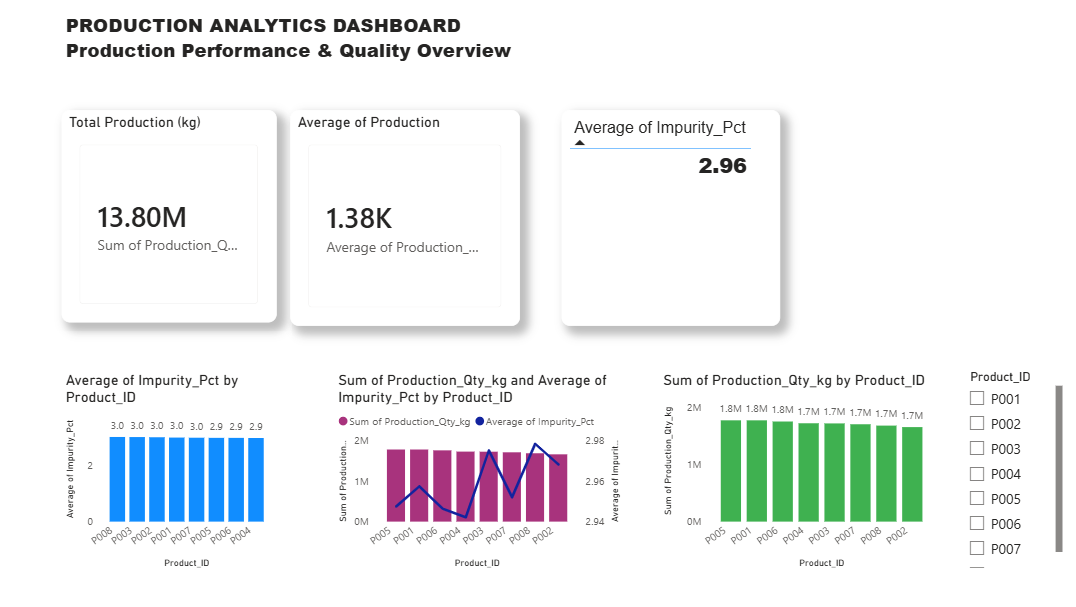

The page's visual inventory and layout, read from the dashboard file:
{"tool":"powerbi","page":{"name":"Page 1","canvas":[1280,720],"ordinal":0},"visuals":[{"type":"cardVisual","title":"Total Production (kg)","fields":{"Data":["Sum(Production Data 1.Production_Qty_kg)"]},"box":[95.7,139.1,249.3,246.4],"z":0},{"type":"cardVisual","title":"Average of Production","fields":{"Data":["Avg(Production Data 1.Production_Qty_kg)"]},"box":[360.9,139.1,266.7,250.7],"z":1000},{"type":"tableEx","fields":{"Values":["Avg(Production Data 1.Impurity_Pct)"]},"box":[675.4,139.1,253.6,250.7],"z":2000},{"type":"clusteredColumnChart","fields":{"Category":["Production Data 1.Product_ID"],"Y":["Sum(Production Data 1.Production_Qty_kg)"]},"box":[788.4,442,323.2,233.3],"z":3000},{"type":"clusteredColumnChart","fields":{"Category":["Production Data 1.Product_ID"],"Y":["Avg(Production Data 1.Impurity_Pct)"]},"box":[95.7,442,249.3,233.3],"z":4000},{"type":"lineClusteredColumnComboChart","fields":{"Category":["Production Data 1.Product_ID"],"Y":["Sum(Production Data 1.Production_Qty_kg)"],"Y2":["Avg(Production Data 1.Impurity_Pct)"]},"box":[411.6,442,337.7,233.3],"z":5000},{"type":"slicer","fields":{"Values":["Production Data 1.Product_ID"]},"box":[1136.2,434.8,124.6,240.6],"z":6000},{"type":"textbox","box":[95.7,20.3,544.9,89.9],"z":7000}]}

Visuals, with their boxes in screenshot pixels (x1, y1, x2, y2), scaled from the page's 1280x720 canvas onto the 1076x607 screenshot:
"Total Production (kg)" cardVisual: x1=80 y1=117 x2=290 y2=325
"Average of Production" cardVisual: x1=303 y1=117 x2=528 y2=329
tableEx - Avg(Production Data 1.Impurity_Pct): x1=568 y1=117 x2=781 y2=329
clusteredColumnChart - Production Data 1.Product_ID x Sum(Production Data 1.Production_Qty_kg): x1=663 y1=373 x2=934 y2=569
clusteredColumnChart - Production Data 1.Product_ID x Avg(Production Data 1.Impurity_Pct): x1=80 y1=373 x2=290 y2=569
lineClusteredColumnComboChart - Production Data 1.Product_ID x Sum(Production Data 1.Production_Qty_kg): x1=346 y1=373 x2=630 y2=569
slicer - Production Data 1.Product_ID: x1=955 y1=367 x2=1060 y2=569
textbox: x1=80 y1=17 x2=539 y2=93
